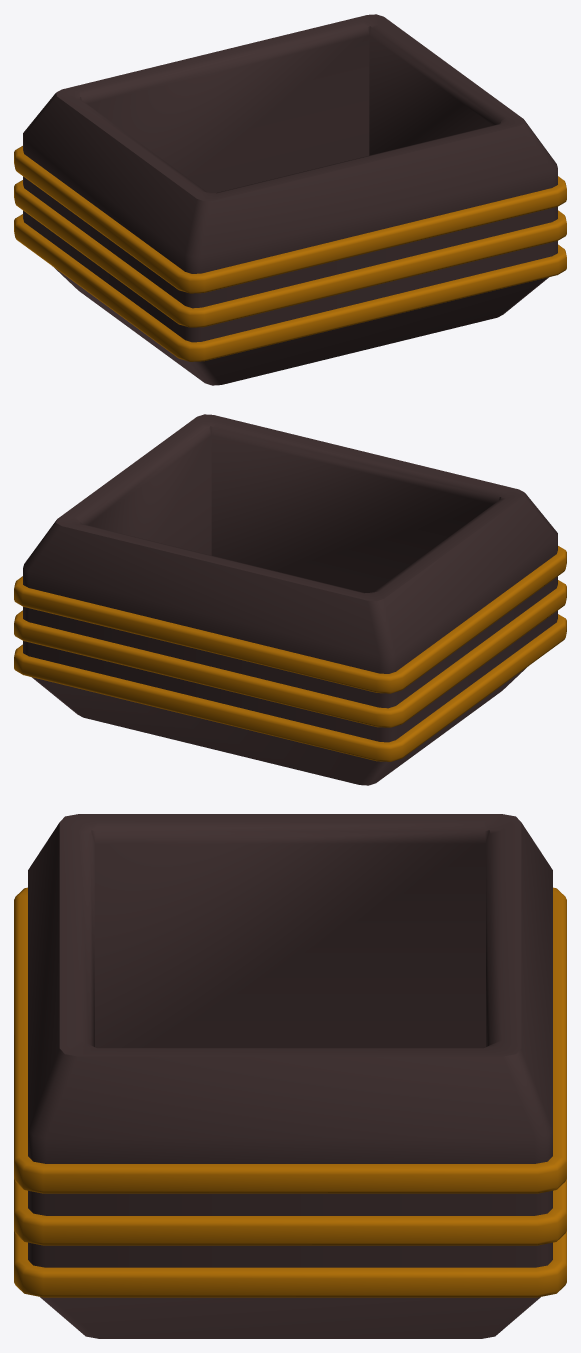
Rendered from Container Box.fbx.
3 renders of one model, top to bottom at view 1: azimuth 30°, elevation 25°; view 2: azimuth 150°, elevation 25°; view 3: azimuth 270°, elevation 25°, orthographic. The views are drawn at different scales.
Visible parts, largest first — view 1: Container Box; view 2: Container Box; view 3: Container Box.
Boxes of the visible parts, bbox=[...] form: Container Box: bbox=[14, 14, 566, 385]; Container Box: bbox=[14, 414, 566, 785]; Container Box: bbox=[14, 814, 566, 1338].
Size of the model in its own units: 69.73 by 33.16 by 56.68.
